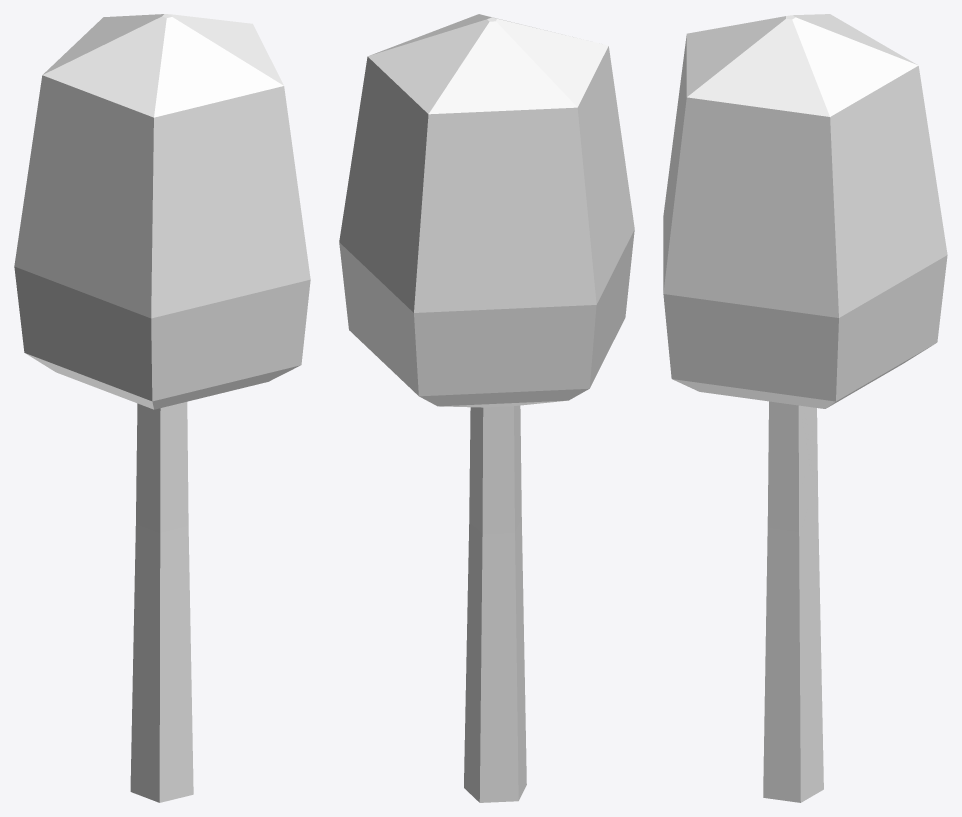
Rendered from tree1.glb.
3 renders of one model, left to right at view 1: azimuth 30°, elevation 25°; view 2: azimuth 150°, elevation 25°; view 3: azimuth 270°, elevation 25°, orthographic.
Visible parts, largest first — view 1: tree.001; view 2: tree.001; view 3: tree.001.
Part boxes in pixels (x1,y1,x2,y2): tree.001: (14,14,310,802); tree.001: (339,14,634,802); tree.001: (663,14,947,802).
Size of the model in its own units: 2.08 by 5.94 by 1.98.
Materials: 1 (1 with a texture image).
